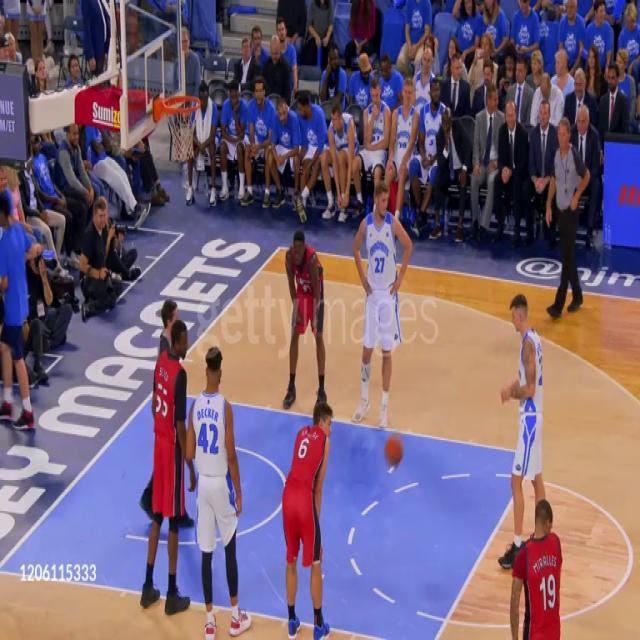ball: (383, 431, 405, 468)
